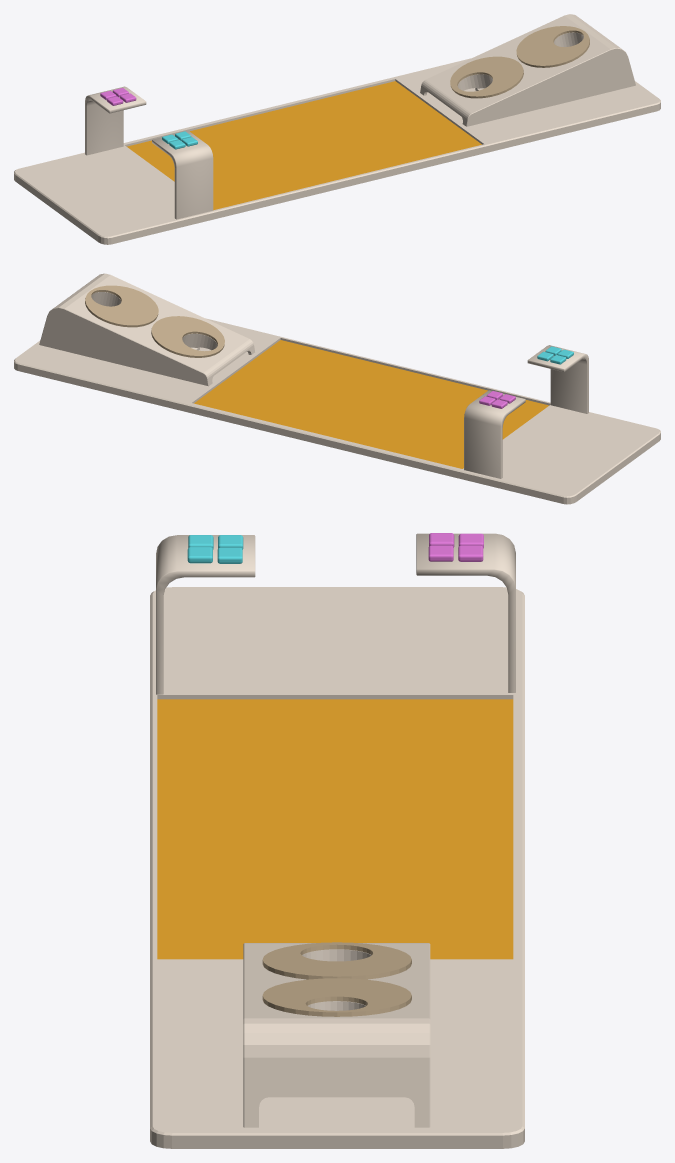
File: toybox_beanbag_complex_blockout_01_mesh.fbx
3 views of the same model, one above another, from view 1: azimuth 30°, elevation 25°; view 2: azimuth 150°, elevation 25°; view 3: azimuth 270°, elevation 25° (orthographic). The views are drawn at different scales.
Visible parts, largest first — view 1: Cube.039, Cube.051, Cube.002, Cylinder.002, Cube.052, Cube.046; view 2: Cube.039, Cube.051, Cube.002, Cylinder.002, Cube.046, Cube.052; view 3: Cube.039, Cube.051, Cube.002, Cylinder.002, Cube.052, Cube.046.
Part boxes in pixels (x1,y1,x2,y2): Cube.039: [14, 58, 660, 244]; Cube.051: [127, 81, 481, 210]; Cube.002: [420, 14, 635, 126]; Cylinder.002: [450, 26, 589, 98]; Cube.052: [152, 131, 213, 219]; Cube.046: [85, 86, 146, 155]; Cube.039: [14, 318, 660, 504]; Cube.051: [194, 340, 548, 468]; Cube.002: [39, 273, 254, 386]; Cylinder.002: [85, 285, 224, 357]; Cube.046: [464, 390, 525, 478]; Cube.052: [527, 345, 588, 413]; Cube.039: [150, 587, 524, 1148]; Cube.051: [157, 699, 513, 959]; Cube.002: [243, 943, 430, 1127]; Cylinder.002: [262, 942, 411, 1016]; Cube.052: [156, 535, 255, 694]; Cube.046: [416, 533, 515, 692].
Bounding box in the file's own units: 866 × 108 × 251.
